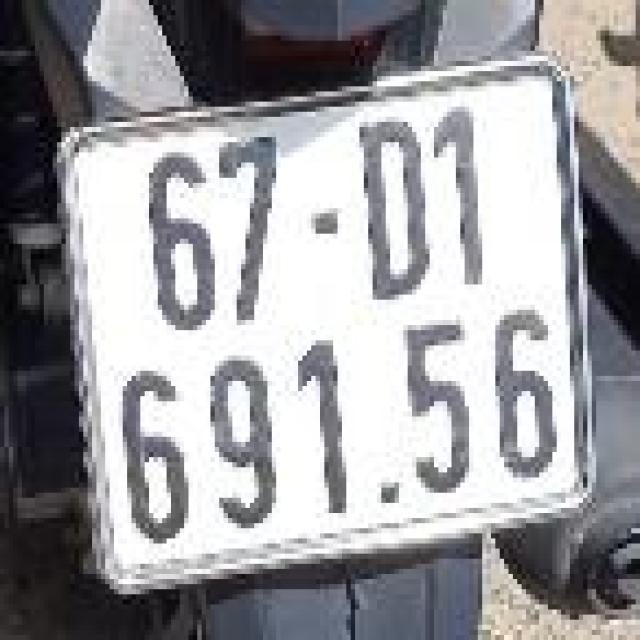1: (289, 332, 364, 520), (436, 94, 498, 297)
5: (396, 323, 476, 495)
6: (108, 361, 200, 554), (138, 142, 221, 335), (484, 307, 564, 480)
7: (215, 130, 285, 332)
9: (206, 348, 285, 526)
D: (348, 106, 432, 304)
